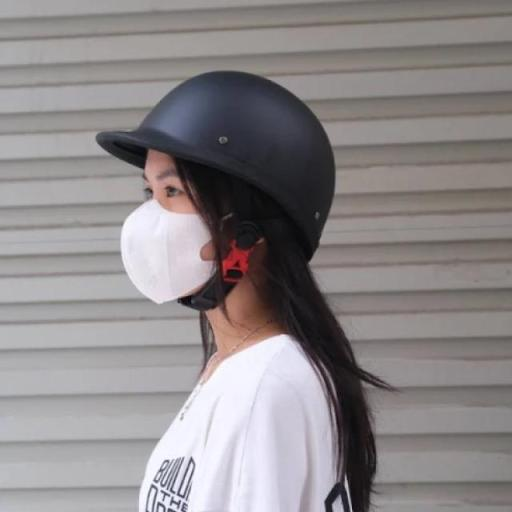with helmet: (92, 68, 340, 250)
